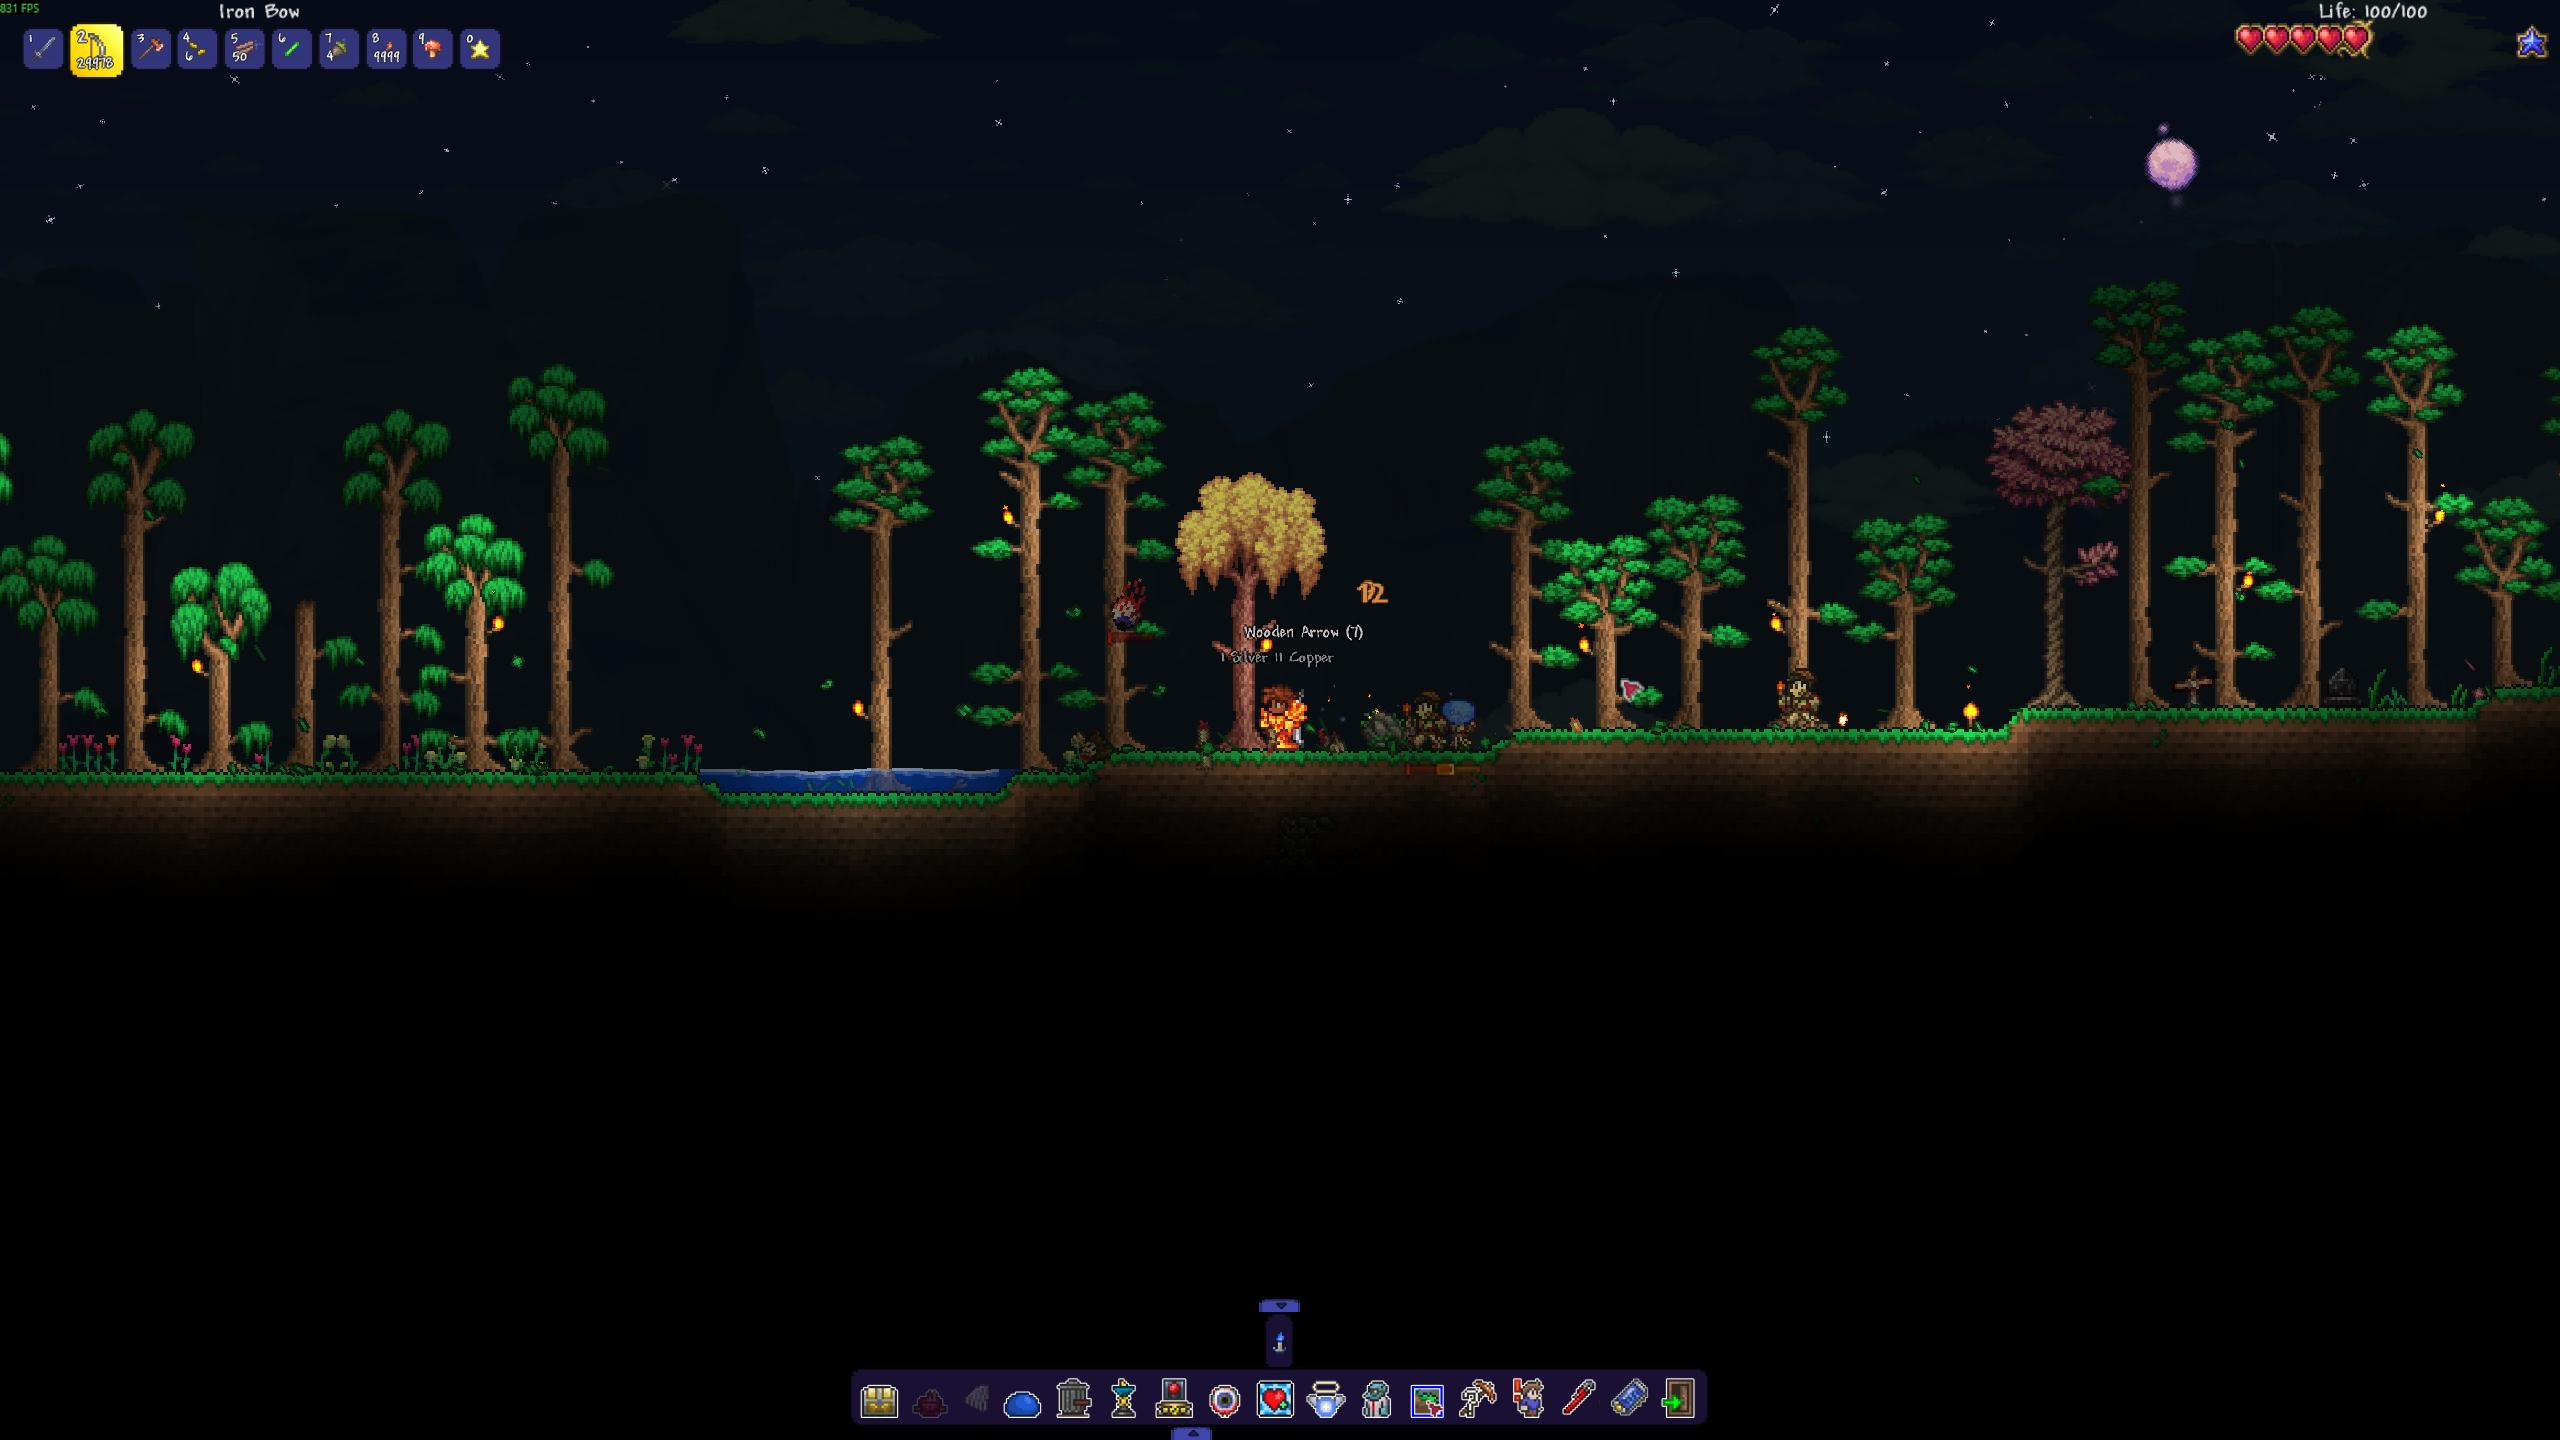Demon Eye: (1104, 577, 1148, 633)
Zombie: (1772, 663, 1822, 728), (1401, 686, 1449, 747), (1442, 691, 1480, 747)
